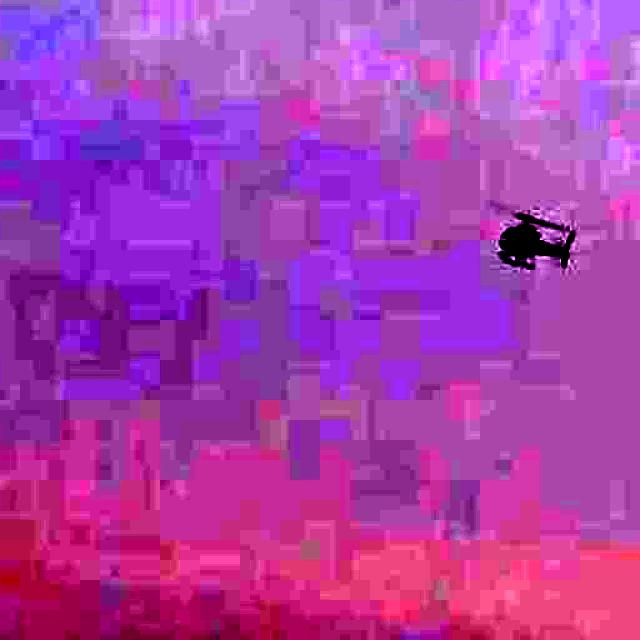drone: (469, 176, 589, 292)
